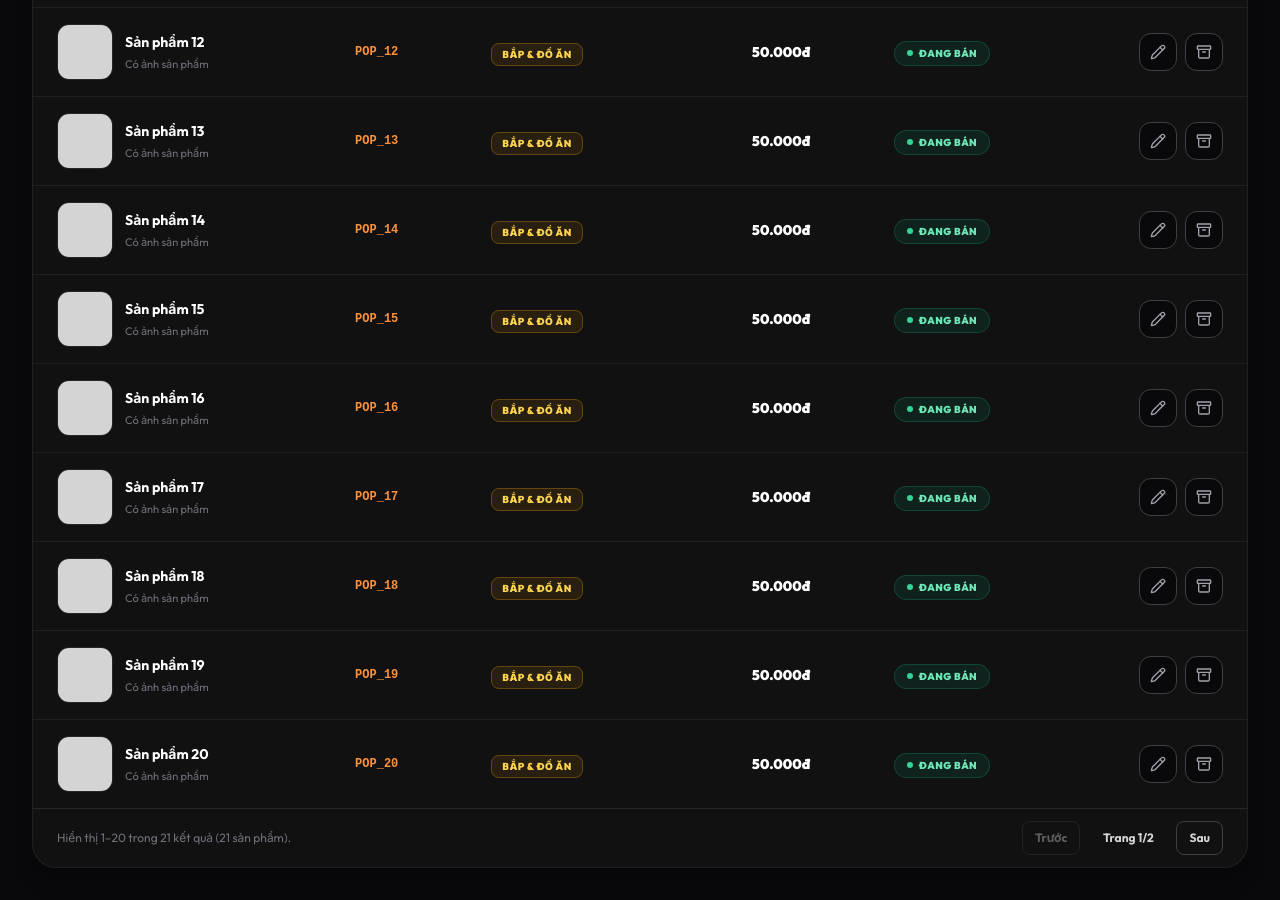
it: AdminConcessionInventoryPage › loads optimized lazy thumbnails and keeps a bounded number of rows in the DOM
(page scrolled)
expect the text "Sản phẩm 21" is not shown: met
Click the button "Sau" at point(1200, 838), box [1176,821,1223,855]
(page scrolled)
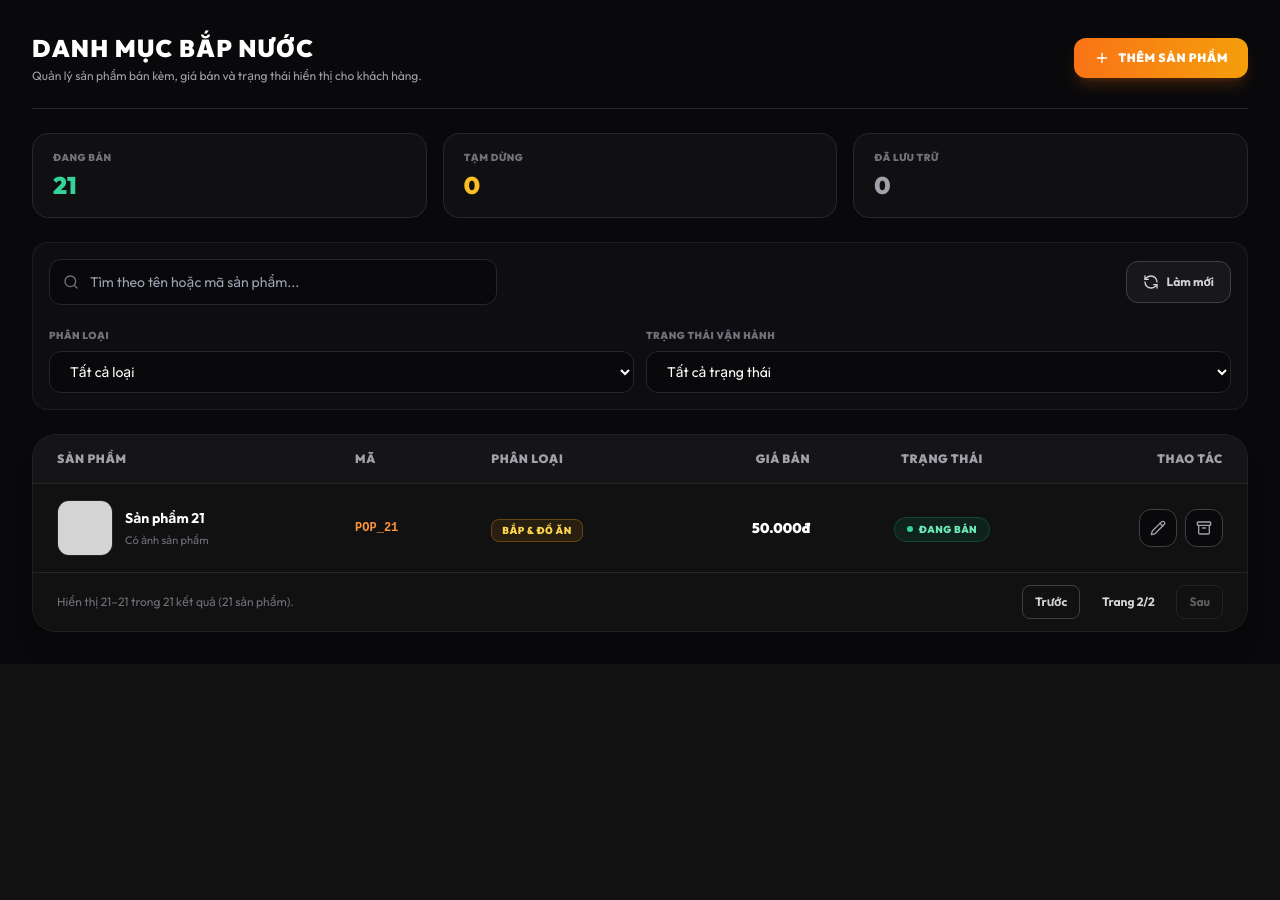
expect the text "Sản phẩm 1" is not shown: met
expect the text "Sản phẩm 21" is shown: met, box [125,508,209,528]
